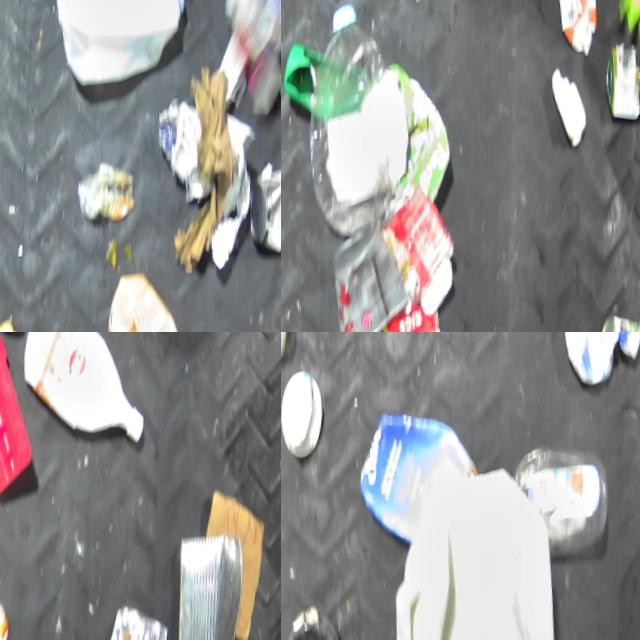can: (327, 228, 422, 332), (246, 158, 281, 252), (108, 595, 176, 640), (601, 299, 640, 332)
milk_jug: (385, 458, 580, 640), (48, 0, 189, 88)
non_white_jug: (357, 405, 492, 544), (103, 266, 203, 332)
plastic_bottle: (297, 0, 423, 233)
